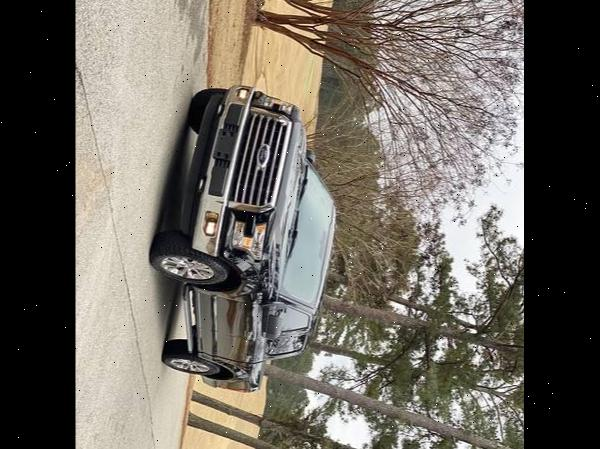Front_Bumper: (181, 82, 255, 256)
Front_Fender: (197, 245, 276, 302)
Front_Left_Door: (198, 286, 269, 337)
Front_Left_Window: (268, 299, 309, 332)
Front_Windshield: (277, 154, 335, 301)
Grille: (226, 102, 292, 214)
Hood: (261, 107, 306, 295)
Left_Headlight: (219, 205, 266, 262)
Rear_Fender: (201, 352, 264, 391)
Rear_Left_Door: (198, 327, 264, 361)
Rear_Left_Window: (266, 330, 307, 354)
Right_Headlight: (251, 90, 294, 118)
Roof: (264, 206, 337, 358)
Wheel: (149, 231, 229, 286), (161, 337, 219, 376)
